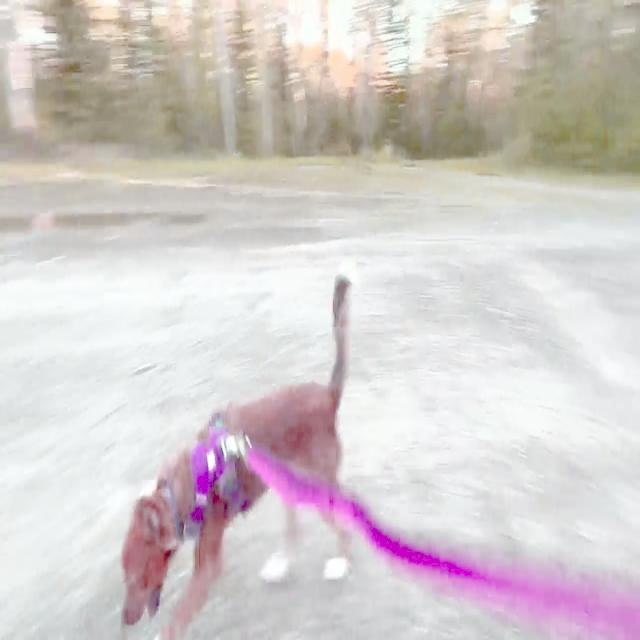Dog: (121, 275, 352, 640)
